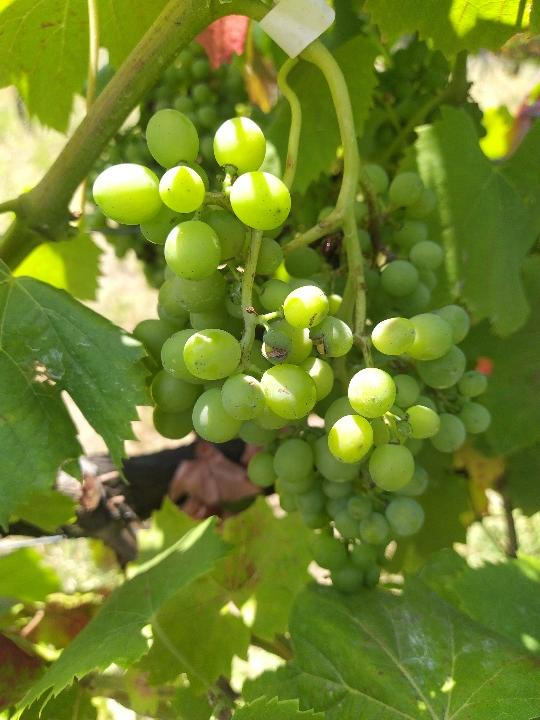grape: (89, 109, 495, 594)
